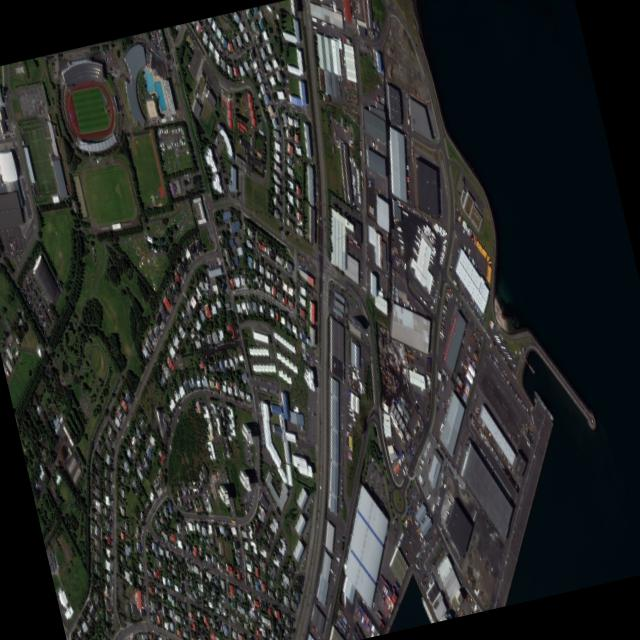large-vehicle: (445, 288, 452, 297), (319, 20, 329, 26), (413, 239, 419, 248), (413, 235, 420, 242), (411, 248, 417, 256), (427, 236, 433, 244), (400, 210, 407, 216), (424, 224, 430, 231), (331, 1, 334, 12), (347, 412, 353, 417), (397, 239, 403, 244), (428, 258, 433, 264), (438, 331, 443, 337), (422, 230, 427, 236), (445, 290, 450, 296), (415, 225, 420, 231), (425, 227, 430, 233), (411, 247, 416, 253), (485, 274, 490, 280), (486, 264, 491, 270), (430, 504, 434, 511), (486, 270, 490, 277), (426, 458, 430, 465), (421, 227, 426, 232), (426, 494, 430, 500), (413, 520, 417, 526), (439, 252, 443, 258), (395, 228, 401, 232), (469, 259, 473, 265), (445, 509, 449, 515), (486, 273, 490, 279), (485, 276, 489, 282), (485, 277, 489, 283), (486, 269, 490, 275), (486, 267, 490, 273), (417, 474, 421, 480), (420, 481, 424, 487), (490, 322, 493, 329), (347, 423, 351, 428), (333, 2, 335, 12), (440, 316, 444, 321), (438, 329, 442, 334), (438, 256, 442, 261), (440, 313, 444, 318), (445, 292, 449, 297), (441, 243, 445, 248), (440, 251, 444, 256), (426, 230, 430, 235), (486, 266, 490, 271), (477, 244, 480, 250), (482, 251, 485, 257), (483, 252, 486, 258), (489, 321, 492, 327), (425, 360, 431, 363), (439, 227, 441, 236), (435, 224, 437, 233), (401, 469, 404, 475), (486, 256, 489, 262), (471, 261, 474, 267), (462, 246, 465, 252), (466, 249, 469, 255), (466, 228, 469, 234), (475, 242, 478, 248), (418, 476, 421, 482), (397, 233, 401, 237), (350, 182, 354, 186), (439, 321, 443, 325), (441, 309, 445, 313), (320, 22, 324, 26), (440, 250, 444, 254), (344, 432, 348, 436), (442, 305, 446, 309), (360, 180, 362, 188), (422, 452, 426, 456), (313, 358, 317, 362), (230, 520, 235, 523), (485, 255, 488, 260), (441, 245, 444, 250), (425, 358, 430, 361), (441, 247, 444, 252), (438, 259, 441, 264), (476, 243, 479, 248), (424, 447, 427, 452), (427, 440, 430, 445), (418, 464, 421, 469), (401, 454, 404, 459), (425, 492, 428, 497), (474, 241, 477, 246), (478, 246, 481, 251), (461, 220, 463, 227), (458, 215, 460, 222), (462, 221, 464, 228), (356, 375, 359, 379), (351, 177, 354, 181), (482, 250, 484, 256), (426, 443, 429, 447), (488, 320, 490, 326), (356, 185, 360, 188), (351, 181, 354, 185), (355, 207, 359, 210), (356, 191, 360, 194), (352, 192, 355, 196), (352, 186, 355, 190), (351, 178, 354, 182), (505, 354, 509, 357), (493, 335, 497, 338), (423, 451, 426, 455), (423, 450, 426, 454), (500, 346, 504, 349), (425, 446, 428, 450), (426, 444, 429, 448), (422, 453, 425, 457), (503, 351, 507, 354), (359, 150, 361, 156), (175, 142, 178, 146), (481, 249, 483, 255), (355, 174, 358, 178), (463, 223, 465, 229), (438, 428, 441, 432), (480, 248, 482, 254), (479, 247, 481, 253), (419, 460, 422, 464), (420, 459, 423, 463), (403, 466, 406, 470), (174, 128, 176, 133), (413, 307, 415, 312), (406, 300, 408, 305), (409, 305, 411, 310), (494, 338, 499, 340), (158, 129, 160, 134), (419, 478, 421, 483), (413, 428, 415, 433), (412, 430, 414, 435), (360, 171, 362, 176), (357, 201, 360, 204), (357, 199, 360, 202), (357, 197, 360, 200), (352, 191, 355, 194), (355, 373, 358, 376), (346, 404, 349, 407), (345, 431, 348, 434), (357, 195, 360, 198), (351, 175, 354, 178), (356, 180, 359, 183), (356, 183, 359, 186), (355, 369, 358, 372), (425, 445, 428, 448), (427, 442, 430, 445), (496, 340, 499, 343), (456, 217, 459, 220), (356, 189, 359, 192), (487, 261, 490, 264), (171, 129, 173, 133), (348, 157, 350, 161), (432, 299, 434, 303), (507, 357, 511, 359), (178, 139, 180, 143), (180, 141, 182, 145), (181, 135, 183, 139), (168, 144, 170, 148), (164, 130, 166, 134), (166, 145, 168, 149), (159, 143, 161, 147), (157, 132, 159, 136), (160, 129, 162, 133), (158, 143, 160, 147), (165, 129, 167, 133), (352, 162, 354, 166), (464, 226, 466, 230), (170, 142, 172, 146), (180, 130, 182, 134), (177, 128, 179, 132), (161, 143, 163, 146), (356, 179, 359, 181), (353, 189, 355, 192), (355, 371, 357, 374), (173, 143, 175, 146), (424, 449, 426, 452), (355, 171, 358, 173), (440, 473, 443, 475), (440, 474, 443, 476), (355, 173, 358, 175), (356, 176, 358, 179), (407, 119, 408, 125), (351, 158, 353, 161), (356, 188, 359, 190), (465, 228, 467, 231), (403, 302, 404, 307), (355, 169, 357, 171)
ship: (531, 390, 553, 422)
small-vehicle: (467, 345, 470, 349), (436, 499, 439, 503), (435, 502, 438, 506), (30, 276, 33, 279), (26, 281, 29, 284), (24, 297, 27, 300), (26, 300, 29, 303), (448, 265, 451, 268), (453, 237, 456, 240), (367, 484, 370, 487), (369, 475, 372, 478), (340, 428, 343, 431), (449, 260, 452, 263), (338, 491, 341, 494), (468, 299, 471, 302), (508, 349, 511, 352), (339, 486, 342, 489), (460, 362, 463, 365), (161, 613, 164, 616), (195, 51, 198, 54), (467, 348, 470, 351), (460, 361, 463, 364), (460, 341, 463, 344), (437, 496, 440, 499), (442, 467, 445, 470), (249, 502, 252, 505), (252, 45, 255, 48), (176, 84, 179, 87), (264, 294, 267, 297), (16, 249, 19, 252), (287, 274, 290, 277), (176, 25, 179, 28), (432, 530, 435, 533), (429, 538, 432, 541), (489, 338, 492, 341), (460, 306, 463, 309), (427, 368, 431, 370), (278, 101, 282, 103), (271, 106, 273, 110), (264, 84, 266, 88), (452, 280, 454, 284), (315, 219, 317, 223), (260, 73, 262, 77), (424, 370, 428, 372), (436, 501, 438, 505), (411, 493, 413, 497), (412, 470, 414, 474), (296, 107, 299, 109), (199, 251, 201, 254), (281, 173, 283, 176), (281, 162, 283, 165), (281, 155, 283, 158), (281, 152, 283, 155), (282, 101, 285, 103), (27, 302, 29, 305), (37, 321, 39, 324), (42, 325, 45, 327), (29, 295, 32, 297), (36, 307, 38, 310), (416, 501, 418, 504), (231, 291, 234, 293), (39, 301, 41, 304), (285, 83, 288, 85), (282, 105, 285, 107), (291, 108, 294, 110), (294, 304, 296, 307), (181, 281, 183, 284), (30, 275, 32, 278), (12, 247, 14, 250), (16, 254, 19, 256), (5, 250, 8, 252), (209, 287, 212, 289), (39, 102, 42, 104), (184, 275, 186, 278), (265, 299, 268, 301), (23, 93, 26, 95), (213, 347, 216, 349), (284, 271, 286, 274), (300, 255, 302, 258), (235, 52, 238, 54), (359, 271, 361, 274), (198, 252, 200, 255), (46, 309, 49, 311), (25, 298, 27, 301), (3, 93, 6, 95), (257, 256, 260, 258), (297, 239, 299, 242), (13, 241, 16, 243), (244, 21, 246, 24), (247, 28, 249, 31), (264, 79, 266, 82), (15, 236, 18, 238), (5, 135, 7, 138), (38, 100, 41, 102), (11, 146, 14, 148), (102, 51, 104, 54), (104, 50, 106, 53), (105, 50, 107, 53), (109, 57, 111, 60), (277, 118, 279, 121), (427, 362, 430, 364), (292, 105, 295, 107), (42, 308, 44, 311), (269, 96, 272, 98), (37, 303, 39, 306), (40, 315, 42, 318), (270, 103, 272, 106), (5, 124, 8, 126), (9, 126, 12, 128), (27, 284, 30, 286), (286, 92, 289, 94), (454, 232, 456, 235), (30, 284, 32, 287), (32, 287, 34, 290), (31, 279, 34, 281), (260, 254, 263, 256), (20, 288, 22, 291), (22, 292, 24, 295), (23, 235, 25, 238), (34, 283, 36, 286), (35, 285, 37, 288), (35, 286, 37, 289), (25, 277, 27, 280), (24, 295, 26, 298), (519, 344, 521, 347), (16, 156, 19, 158), (454, 234, 456, 237), (401, 277, 404, 279), (402, 278, 405, 280), (263, 81, 265, 84), (455, 284, 457, 287), (390, 264, 393, 266), (498, 333, 500, 336), (495, 365, 497, 368), (315, 192, 317, 195), (488, 354, 490, 357), (462, 296, 465, 298), (467, 303, 469, 306), (468, 305, 470, 308), (471, 309, 473, 312), (471, 311, 474, 313), (322, 203, 324, 206), (295, 238, 297, 241), (367, 462, 370, 464), (345, 370, 348, 372), (496, 331, 498, 334), (340, 416, 342, 419), (364, 480, 366, 483), (348, 428, 351, 430), (442, 450, 444, 453), (445, 457, 448, 459), (365, 283, 368, 285), (506, 380, 508, 383), (525, 408, 527, 411), (455, 471, 457, 474), (305, 353, 308, 355), (354, 305, 356, 308), (315, 202, 317, 205), (509, 386, 511, 389), (503, 373, 506, 375), (516, 394, 518, 397), (514, 394, 516, 397), (461, 339, 463, 342), (448, 460, 450, 463), (262, 387, 264, 390), (261, 69, 263, 72), (500, 336, 502, 339), (512, 389, 514, 392), (511, 390, 513, 393), (301, 564, 303, 567), (211, 392, 214, 394), (503, 341, 505, 344), (328, 284, 330, 287), (475, 316, 477, 319), (475, 309, 477, 312), (478, 319, 480, 322), (505, 344, 507, 347), (516, 357, 518, 360), (510, 351, 512, 354), (259, 70, 261, 73), (154, 36, 157, 38), (509, 368, 511, 371), (155, 45, 158, 47), (490, 353, 493, 355), (459, 365, 462, 367), (449, 462, 451, 465), (428, 364, 431, 366), (427, 366, 430, 368), (427, 370, 430, 372), (424, 362, 427, 364), (425, 364, 428, 366), (425, 366, 428, 368), (424, 368, 427, 370), (492, 356, 495, 358), (494, 359, 497, 361), (467, 346, 469, 349), (156, 36, 158, 39), (437, 497, 439, 500), (439, 522, 442, 524), (294, 143, 296, 146), (219, 48, 221, 51), (180, 30, 182, 33), (472, 311, 474, 314), (442, 516, 444, 519), (515, 396, 517, 399), (444, 455, 446, 458), (474, 336, 476, 339), (444, 462, 446, 465), (464, 312, 466, 315), (489, 337, 491, 340), (251, 463, 253, 466), (155, 34, 158, 36), (443, 465, 445, 468), (228, 55, 231, 57), (281, 200, 283, 203), (281, 221, 283, 224), (281, 218, 283, 221), (154, 30, 157, 32), (158, 47, 161, 49), (154, 39, 157, 41), (234, 53, 237, 55), (460, 435, 462, 438), (442, 533, 444, 536), (258, 62, 260, 65), (257, 58, 259, 61), (10, 134, 12, 137), (11, 134, 13, 137), (259, 65, 261, 68), (255, 253, 257, 256), (236, 51, 239, 53), (157, 43, 160, 45), (275, 301, 277, 304), (419, 498, 421, 501), (415, 493, 417, 496), (172, 63, 174, 66), (254, 252, 256, 255), (304, 267, 306, 270), (153, 34, 156, 36), (439, 527, 441, 530), (417, 500, 419, 503), (412, 508, 414, 511), (411, 509, 413, 512), (427, 542, 429, 545), (414, 495, 416, 498), (432, 544, 434, 547), (503, 360, 505, 363), (492, 342, 494, 345), (437, 444, 439, 447), (498, 350, 500, 353), (416, 552, 418, 555), (415, 554, 417, 557), (420, 544, 422, 547), (406, 491, 408, 494), (414, 494, 416, 497), (372, 460, 374, 463), (457, 474, 459, 477), (499, 353, 501, 356), (346, 374, 349, 376), (340, 424, 343, 426), (496, 347, 498, 350), (318, 471, 320, 474), (415, 479, 417, 482), (415, 483, 417, 486), (417, 487, 419, 490), (409, 497, 411, 500), (409, 496, 411, 499), (438, 445, 440, 448), (436, 443, 438, 446), (493, 343, 495, 346), (340, 427, 343, 429), (500, 355, 502, 358), (476, 318, 478, 321), (510, 369, 512, 372), (490, 339, 492, 342), (491, 342, 494, 344), (501, 356, 503, 359), (460, 438, 462, 441), (459, 443, 461, 446), (482, 318, 484, 321), (502, 357, 504, 360), (410, 495, 412, 498), (413, 506, 415, 509), (454, 298, 456, 301), (460, 305, 462, 308), (480, 336, 482, 339), (502, 358, 504, 361), (301, 74, 303, 76), (381, 102, 383, 104), (285, 79, 287, 81), (305, 106, 307, 108), (295, 76, 297, 78), (281, 180, 283, 182), (160, 331, 162, 333), (269, 297, 271, 299), (42, 323, 44, 325), (43, 322, 45, 324), (294, 308, 296, 310), (381, 99, 383, 101), (283, 147, 285, 149), (283, 144, 285, 146), (370, 55, 372, 57), (285, 105, 287, 107), (302, 109, 304, 111), (297, 110, 299, 112), (370, 60, 372, 62), (381, 97, 383, 99), (210, 289, 212, 291), (28, 280, 30, 282), (6, 230, 8, 232), (285, 81, 287, 83), (10, 249, 12, 251), (11, 252, 13, 254), (9, 252, 11, 254), (269, 301, 271, 303), (479, 322, 481, 324), (262, 297, 264, 299), (268, 331, 270, 333), (269, 261, 271, 263), (270, 265, 272, 267), (313, 286, 315, 288), (313, 289, 315, 291), (207, 224, 209, 226), (327, 285, 329, 287), (315, 206, 317, 208), (286, 273, 288, 275), (277, 139, 279, 141), (4, 91, 6, 93), (4, 92, 6, 94), (4, 98, 6, 100), (4, 101, 6, 103), (240, 293, 242, 295), (3, 135, 4, 139), (242, 46, 244, 48), (276, 105, 278, 107), (217, 48, 219, 50), (210, 34, 212, 36), (4, 99, 6, 101), (4, 96, 6, 98), (17, 242, 19, 244), (13, 238, 15, 240), (7, 131, 9, 133), (38, 315, 40, 317), (244, 45, 246, 47), (106, 57, 107, 61), (37, 89, 39, 91), (32, 99, 34, 101), (31, 105, 33, 107), (26, 288, 28, 290), (40, 304, 42, 306), (28, 291, 30, 293), (28, 293, 30, 295), (29, 283, 31, 285), (279, 171, 281, 173), (29, 294, 31, 296), (39, 306, 41, 308), (40, 309, 42, 311), (41, 311, 43, 313), (35, 306, 37, 308), (36, 309, 38, 311), (29, 281, 31, 283), (39, 313, 41, 315), (25, 286, 27, 288), (28, 285, 30, 287), (152, 41, 154, 43), (3, 105, 5, 107), (5, 121, 7, 123), (263, 260, 265, 262), (4, 95, 6, 97), (31, 286, 33, 288), (31, 297, 33, 299), (30, 296, 32, 298), (208, 265, 210, 267), (32, 280, 34, 282), (33, 281, 35, 283), (33, 282, 35, 284), (15, 250, 17, 252), (265, 261, 267, 263), (36, 288, 38, 290), (12, 148, 14, 150), (252, 12, 254, 14), (22, 283, 24, 285), (27, 290, 29, 292), (372, 226, 374, 228), (381, 94, 383, 96), (460, 293, 462, 295), (465, 300, 467, 302), (466, 301, 468, 303), (475, 308, 477, 310), (473, 313, 475, 315), (397, 272, 399, 274), (364, 479, 366, 481), (349, 432, 351, 434), (347, 379, 349, 381), (340, 421, 342, 423), (345, 363, 347, 365), (349, 430, 351, 432), (470, 302, 472, 304), (368, 460, 370, 462), (438, 553, 440, 555), (340, 414, 342, 416), (439, 448, 441, 450), (450, 464, 452, 466), (493, 325, 495, 327), (490, 358, 492, 360), (432, 437, 434, 439), (433, 438, 435, 440), (309, 358, 311, 360), (309, 363, 311, 365), (311, 365, 313, 367), (257, 404, 259, 406), (246, 43, 248, 45), (230, 55, 232, 57), (155, 43, 157, 45), (155, 41, 157, 43), (474, 314, 476, 316), (474, 315, 476, 317), (313, 345, 315, 347), (258, 412, 260, 414), (507, 365, 509, 367), (502, 339, 504, 341), (466, 302, 468, 304), (235, 620, 236, 624), (202, 566, 204, 568), (265, 388, 266, 392), (219, 570, 221, 572), (251, 499, 253, 501), (507, 347, 509, 349), (307, 407, 309, 409), (430, 433, 432, 435), (248, 635, 250, 637), (474, 307, 476, 309), (512, 355, 514, 357), (514, 358, 516, 360), (263, 170, 265, 172), (156, 46, 158, 48), (157, 48, 159, 50), (150, 31, 152, 33), (508, 367, 510, 369), (506, 363, 508, 365), (460, 364, 462, 366), (510, 388, 512, 390), (499, 366, 501, 368), (496, 362, 498, 364), (497, 363, 499, 365), (498, 365, 500, 367), (434, 439, 436, 441), (157, 40, 159, 42), (502, 370, 504, 372), (157, 41, 159, 43), (195, 53, 197, 55), (299, 111, 301, 113), (194, 55, 196, 57), (156, 38, 158, 40), (295, 144, 297, 146), (431, 434, 433, 436), (501, 369, 503, 371), (151, 33, 153, 35), (218, 47, 220, 49), (435, 441, 437, 443), (430, 432, 432, 434), (246, 444, 248, 446), (156, 35, 158, 37), (281, 198, 283, 200), (442, 468, 444, 470), (441, 450, 443, 452), (14, 244, 16, 246), (155, 32, 157, 34), (158, 46, 160, 48), (158, 44, 160, 46), (151, 36, 153, 38), (163, 59, 165, 61), (458, 303, 460, 305), (504, 361, 506, 363), (313, 290, 315, 292), (440, 530, 442, 532), (313, 287, 315, 289), (8, 135, 10, 137), (247, 450, 249, 452), (410, 500, 412, 502), (424, 547, 426, 549), (275, 265, 277, 267), (208, 225, 210, 227), (237, 173, 239, 175), (252, 247, 254, 249), (440, 529, 442, 531), (437, 535, 439, 537), (433, 543, 435, 545), (159, 49, 161, 51), (441, 531, 443, 533), (153, 33, 155, 35), (439, 552, 441, 554), (422, 550, 424, 552), (420, 553, 422, 555), (410, 485, 412, 487), (491, 341, 493, 343), (452, 467, 454, 469), (457, 475, 459, 477), (444, 537, 446, 539), (443, 536, 445, 538), (495, 347, 497, 349), (494, 346, 496, 348), (494, 345, 496, 347), (294, 444, 296, 446), (432, 436, 434, 438), (455, 462, 457, 464), (442, 470, 444, 472), (451, 465, 453, 467), (472, 333, 474, 335), (370, 458, 372, 460), (371, 459, 373, 461), (480, 323, 482, 325), (476, 339, 478, 341), (447, 467, 449, 469), (451, 466, 453, 468), (456, 458, 458, 460), (430, 548, 432, 550), (418, 499, 420, 501), (444, 530, 446, 532), (494, 327, 496, 329), (454, 283, 456, 285), (453, 282, 455, 284), (456, 300, 458, 302), (496, 349, 498, 351), (462, 309, 464, 311), (505, 362, 507, 364), (286, 74, 289, 75), (352, 29, 353, 32), (351, 28, 352, 31), (367, 46, 368, 49), (282, 176, 283, 179), (366, 46, 367, 49), (377, 85, 378, 88), (359, 43, 360, 46), (319, 294, 320, 297), (209, 286, 212, 287), (206, 221, 209, 222), (9, 245, 12, 246), (252, 290, 255, 291), (258, 292, 261, 293), (300, 263, 301, 266), (280, 131, 281, 134), (0, 136, 1, 139), (8, 135, 9, 138), (108, 57, 109, 60), (280, 128, 281, 131), (323, 227, 324, 230), (4, 120, 7, 121), (452, 279, 453, 282), (506, 381, 507, 384), (499, 370, 500, 373), (413, 275, 414, 278), (494, 362, 495, 365), (518, 397, 519, 400), (517, 398, 518, 401), (312, 295, 313, 298), (323, 245, 324, 248), (323, 190, 324, 193), (323, 218, 324, 221), (306, 261, 307, 264), (497, 368, 498, 371), (493, 361, 494, 364), (340, 423, 343, 424), (309, 263, 310, 266), (501, 374, 502, 377), (523, 406, 524, 409), (521, 404, 522, 407), (520, 402, 521, 405), (378, 271, 379, 274), (260, 387, 261, 390), (327, 310, 330, 311), (329, 283, 330, 286), (509, 383, 510, 386), (508, 384, 509, 387), (111, 518, 112, 521), (111, 586, 112, 589), (173, 616, 174, 619), (269, 355, 270, 358), (519, 347, 520, 350), (518, 351, 519, 354), (510, 385, 511, 388), (504, 375, 507, 376), (446, 464, 447, 467), (499, 368, 502, 369), (317, 636, 318, 639), (491, 355, 494, 356), (502, 372, 505, 373), (226, 54, 227, 57), (489, 352, 492, 353), (150, 35, 153, 36), (289, 232, 290, 235), (279, 182, 280, 185), (14, 247, 17, 248), (290, 233, 291, 236), (205, 204, 206, 207), (439, 446, 440, 449), (456, 472, 457, 475), (456, 459, 457, 462), (458, 452, 459, 455), (472, 331, 473, 334), (500, 354, 501, 357), (481, 324, 482, 327), (510, 362, 513, 363), (365, 46, 366, 48), (376, 85, 377, 87), (40, 303, 41, 305), (370, 58, 372, 59), (370, 54, 372, 55), (286, 88, 288, 89), (10, 247, 12, 248), (268, 333, 270, 334), (9, 242, 11, 243), (9, 244, 11, 245), (10, 248, 12, 249), (11, 251, 13, 252), (14, 252, 16, 253), (16, 253, 18, 254), (5, 247, 7, 248), (256, 325, 258, 326), (298, 262, 299, 264), (242, 293, 244, 294), (248, 293, 250, 294), (257, 295, 259, 296), (204, 225, 206, 226), (281, 237, 282, 239), (276, 129, 278, 130), (4, 136, 5, 138), (212, 37, 213, 39), (248, 31, 249, 33), (279, 146, 280, 148), (152, 43, 154, 44), (30, 101, 32, 102), (283, 146, 285, 147), (271, 99, 272, 101), (29, 288, 31, 289), (40, 314, 41, 316), (5, 123, 7, 124), (6, 126, 8, 127), (9, 125, 11, 126), (10, 128, 12, 129), (10, 131, 12, 132), (7, 130, 9, 131), (152, 39, 153, 41), (151, 38, 153, 39), (382, 231, 383, 233), (286, 91, 288, 92), (27, 289, 28, 291), (310, 292, 311, 294), (462, 295, 463, 297), (519, 400, 520, 402), (396, 263, 397, 265), (397, 265, 398, 267), (492, 360, 493, 362), (319, 344, 320, 346), (340, 439, 342, 440), (522, 403, 523, 405), (382, 275, 383, 277), (322, 281, 323, 283), (514, 391, 515, 393), (220, 576, 222, 577), (322, 276, 323, 278), (481, 317, 482, 319), (500, 373, 501, 375), (40, 98, 42, 99), (515, 393, 516, 395), (237, 529, 238, 531), (207, 519, 208, 521), (483, 320, 484, 322), (11, 145, 13, 146), (493, 358, 495, 359), (505, 379, 506, 381), (154, 38, 156, 39), (503, 377, 504, 379), (495, 361, 497, 362), (464, 311, 465, 313), (215, 42, 216, 44), (282, 195, 283, 197), (230, 510, 232, 511), (447, 466, 448, 468), (451, 454, 453, 455), (283, 91, 284, 92)
